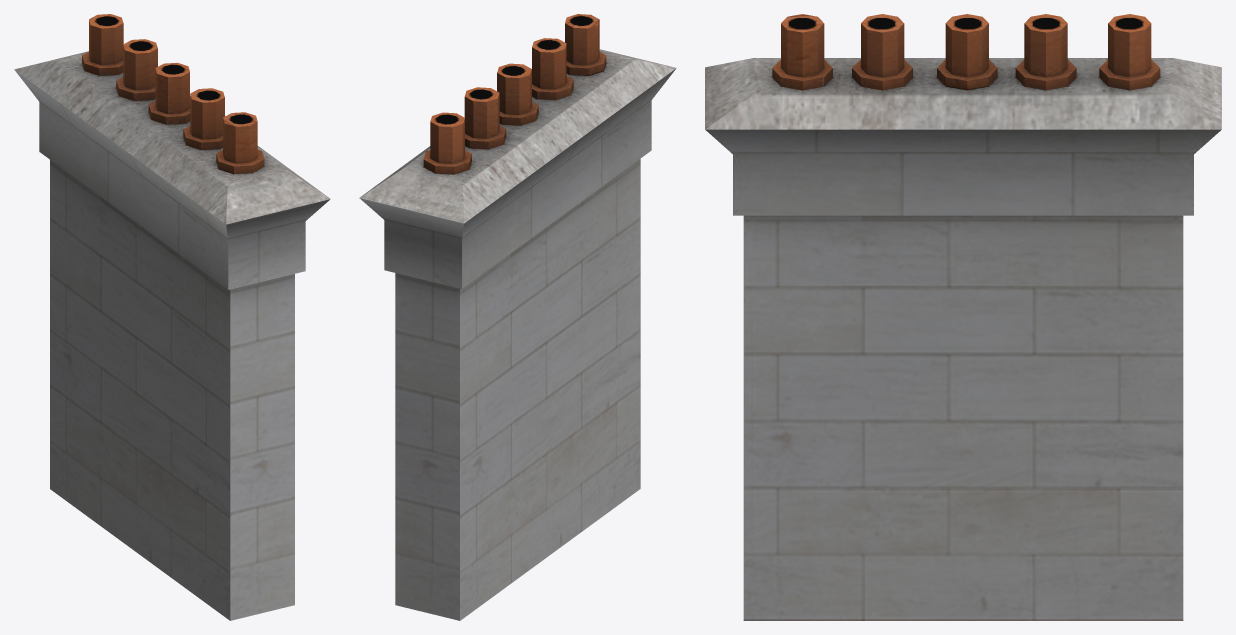
Rendered from chimney2.fbx.
3 renders of one model, left to right at view 1: azimuth 30°, elevation 25°; view 2: azimuth 150°, elevation 25°; view 3: azimuth 270°, elevation 25°, orthographic. The views are drawn at different scales.
Parts seen in each view (by area): view 1: chimney2Mesh; view 2: chimney2Mesh; view 3: chimney2Mesh.
Part boxes in pixels (<box>): chimney2Mesh: <box>14,14,330,620</box>; chimney2Mesh: <box>359,14,676,620</box>; chimney2Mesh: <box>705,14,1221,620</box>.
Size of the model in its own units: 73.12 by 317 by 256.
